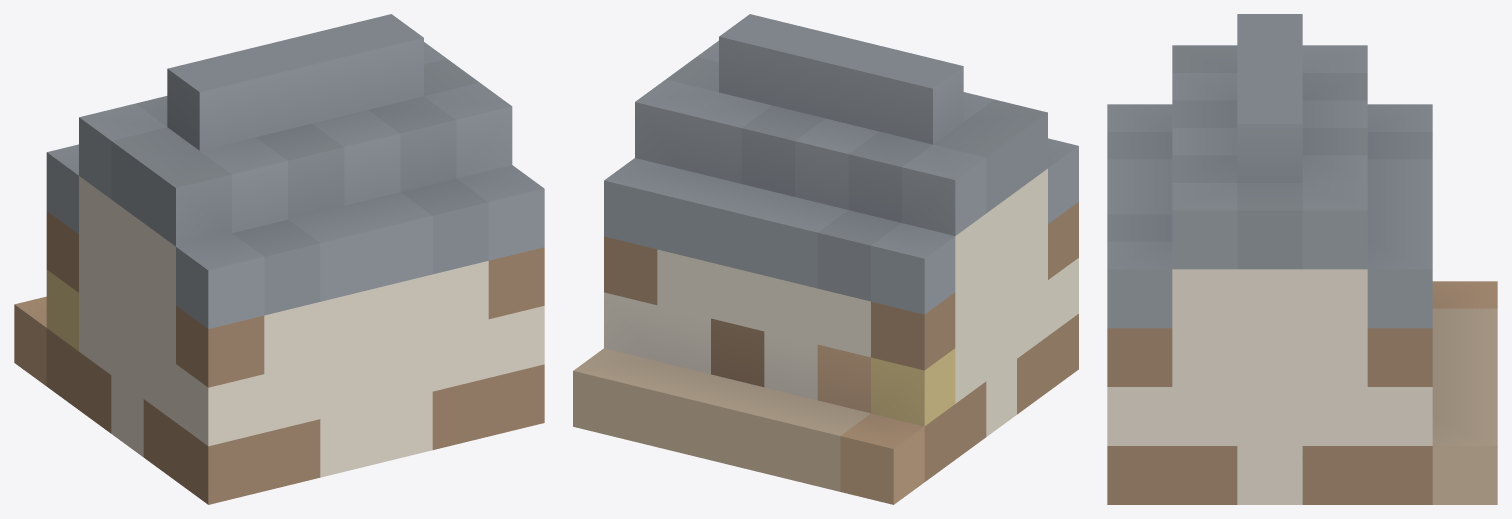
File: house_patricians.lite.glb
3 renders of one model, left to right at view 1: azimuth 30°, elevation 25°; view 2: azimuth 150°, elevation 25°; view 3: azimuth 270°, elevation 25°, orthographic. The views are drawn at different scales.
Visible parts, largest first — view 1: house_patricians; view 2: house_patricians; view 3: house_patricians.
Boxes of the visible parts, <box> form: house_patricians: <box>14,14,544,504</box>; house_patricians: <box>573,14,1078,504</box>; house_patricians: <box>1107,14,1497,504</box>.
Bounding box in the file's own units: 3 × 3 × 3.
